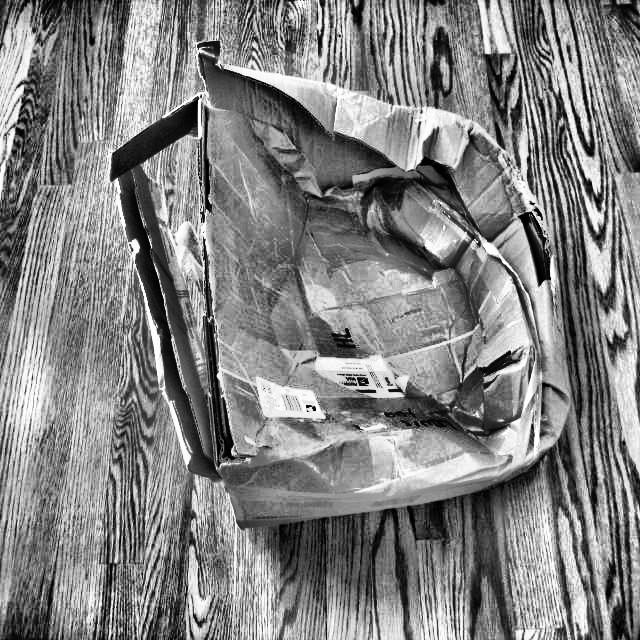box: (99, 54, 580, 528)
hole: (410, 139, 486, 242)
